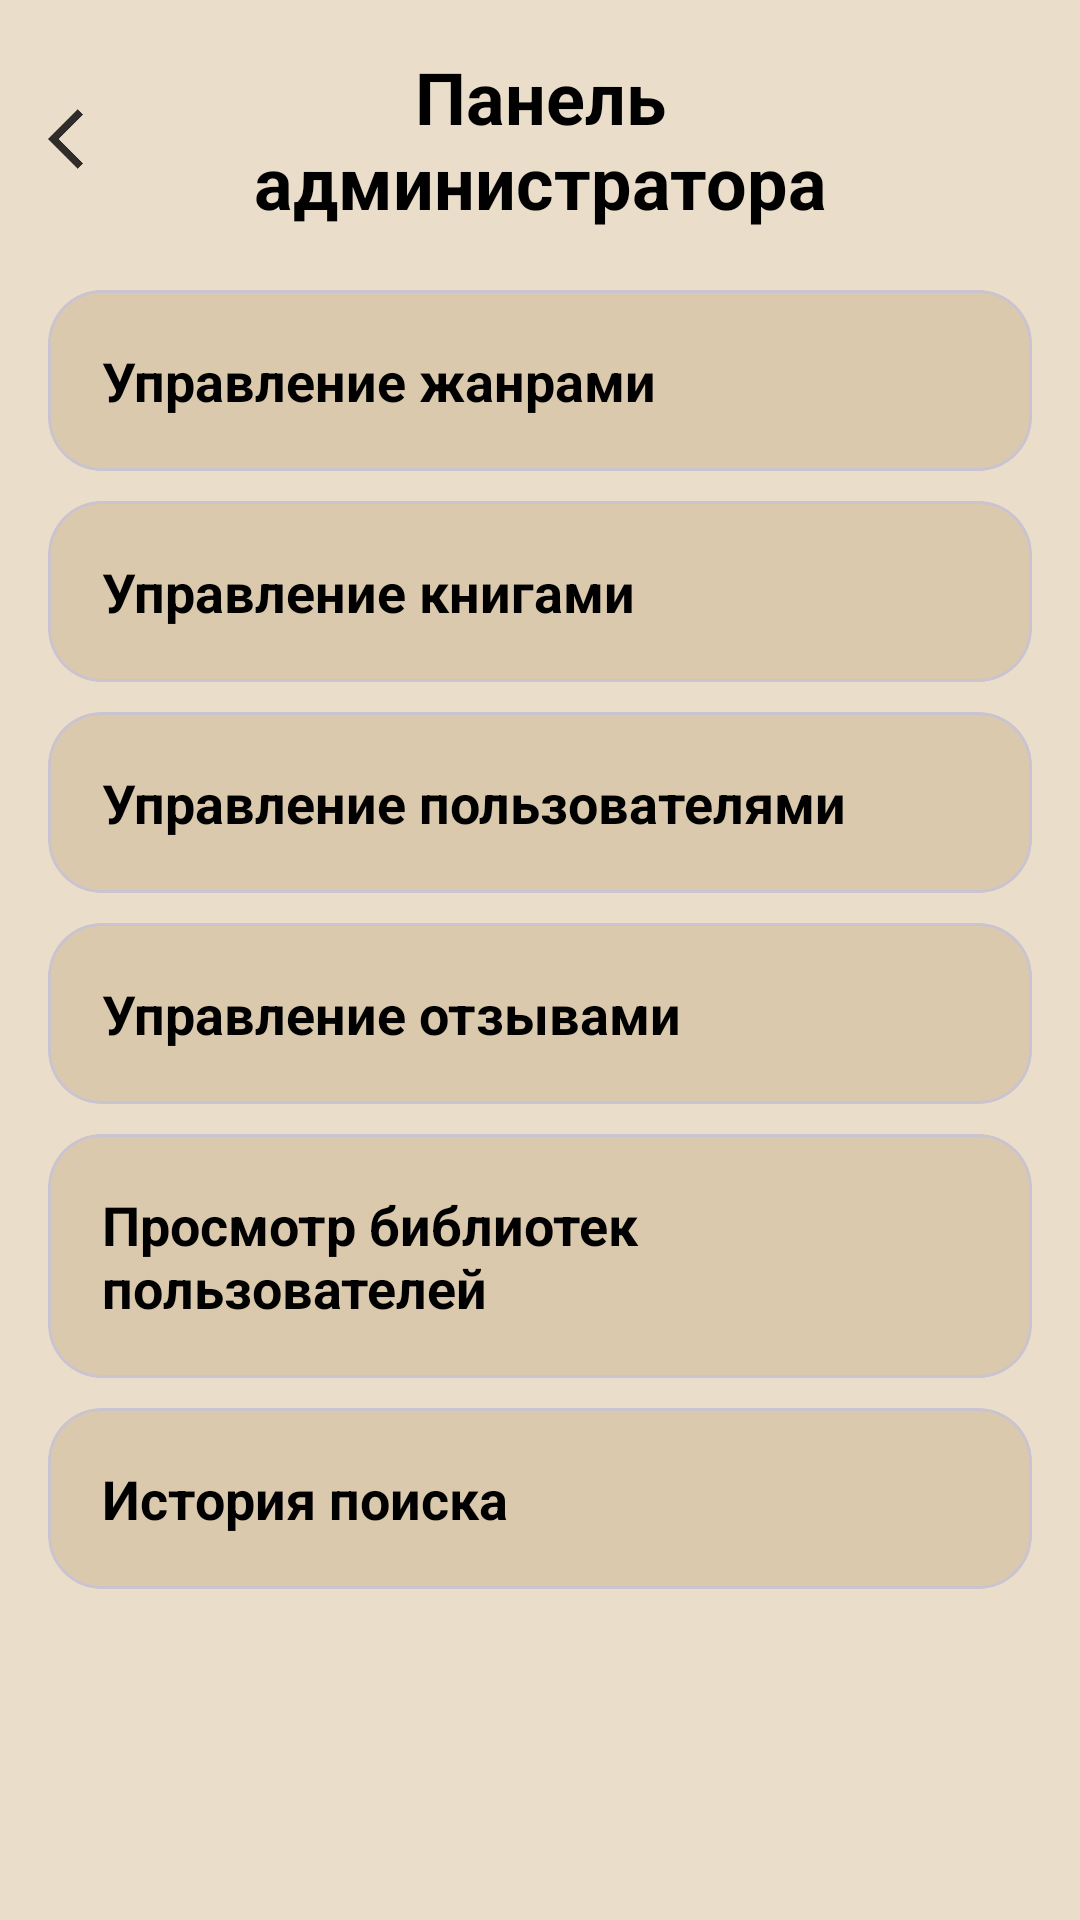

Screen size 1080 x 1920. Icon name, then its center in pixels as (x=x, y=y):
Назад: (x=65, y=139)
